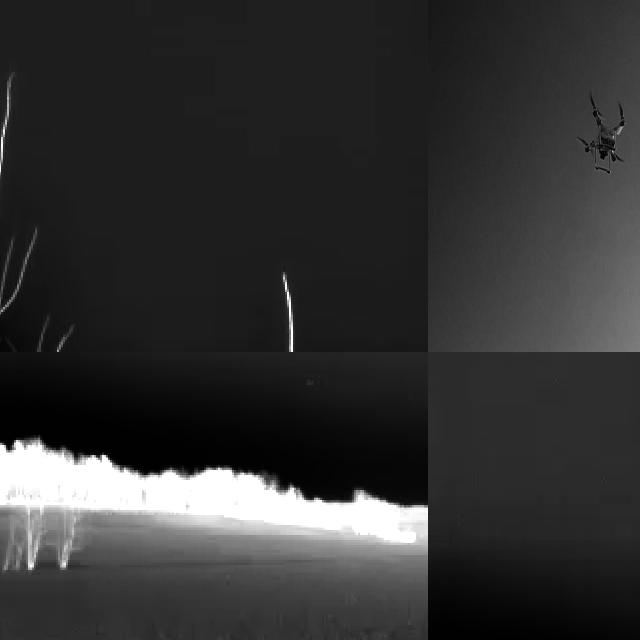0: (300, 371, 326, 404)
drone: (579, 86, 630, 181)
